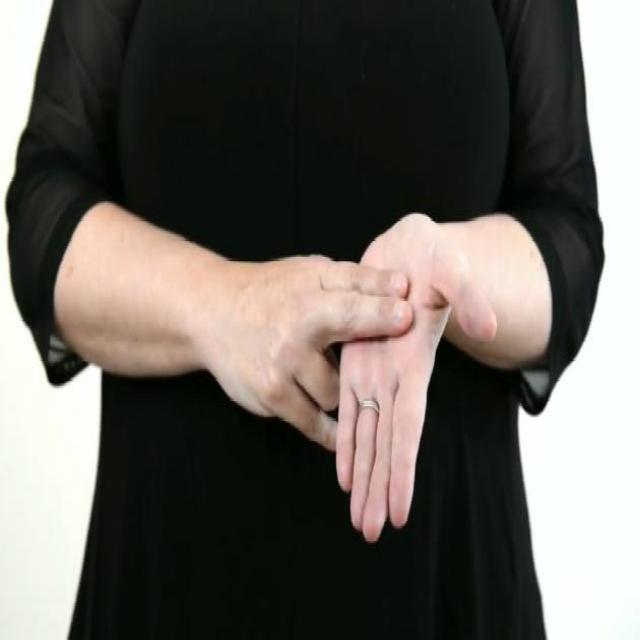N: (250, 210, 499, 551)
